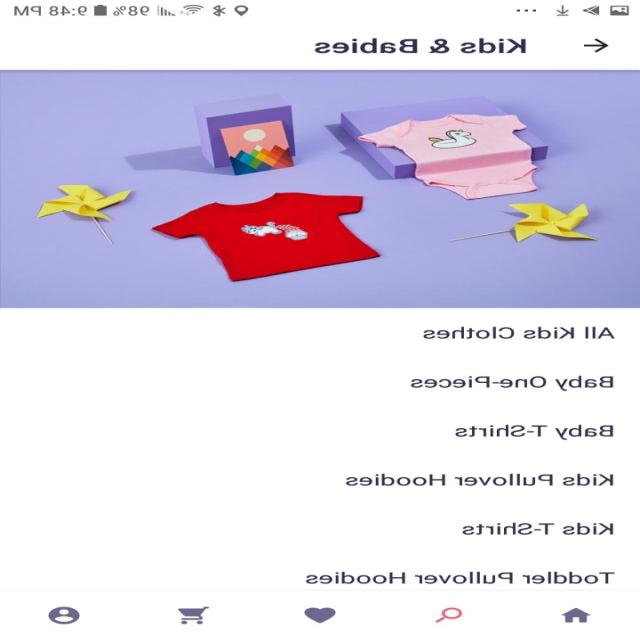Icon: (49, 606, 81, 624), (178, 606, 210, 624), (304, 606, 337, 623), (436, 606, 464, 623), (561, 607, 591, 622), (584, 38, 610, 53)
Image: (1, 70, 640, 308)
Text: (306, 571, 616, 584), (346, 473, 614, 486), (410, 375, 614, 391), (314, 38, 528, 53), (455, 423, 614, 440), (423, 326, 615, 339), (462, 522, 614, 535)
